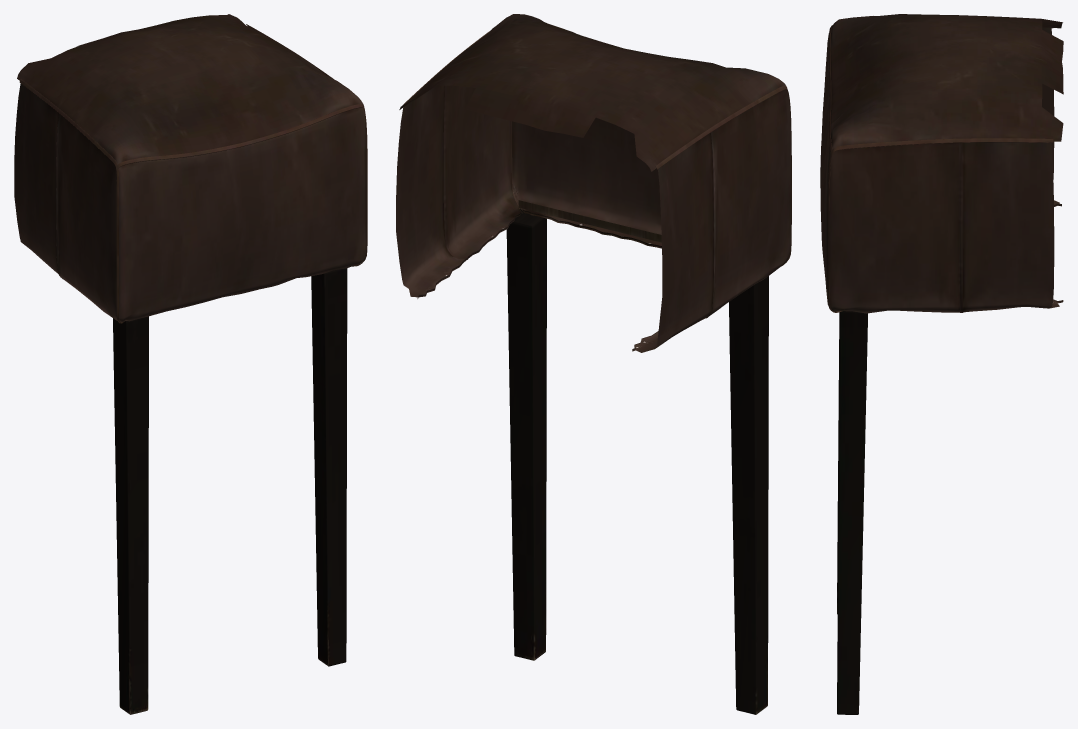
The model's file is chair_seat.glb.
3 renders of one model, left to right at view 1: azimuth 30°, elevation 25°; view 2: azimuth 150°, elevation 25°; view 3: azimuth 270°, elevation 25°, orthographic. The views are drawn at different scales.
Parts seen in each view (by area): view 1: dining_chair_02.002; view 2: dining_chair_02.002; view 3: dining_chair_02.002.
Part boxes in pixels (bbox=[...]): dining_chair_02.002: bbox=[14, 14, 367, 714]; dining_chair_02.002: bbox=[396, 14, 791, 714]; dining_chair_02.002: bbox=[820, 14, 1063, 714].
Bounding box in the file's own units: 10.04 × 22.32 × 8.
1 material, 1 textured.
